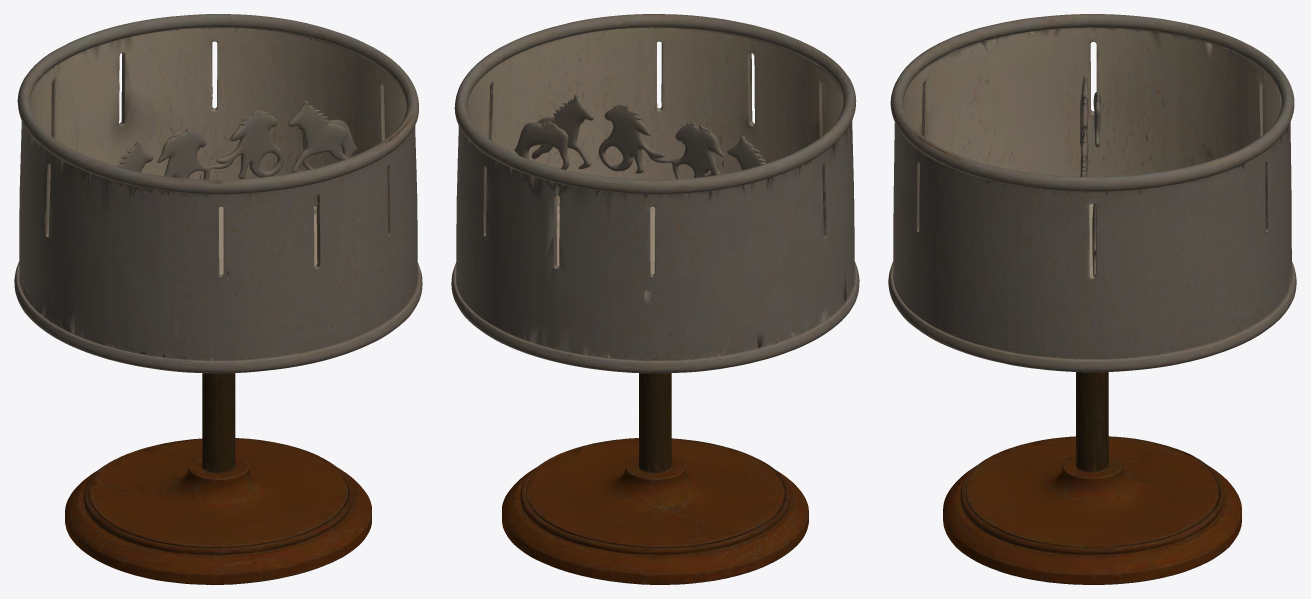
Rendered from zoetrope.glb.
The picture shows the model from 3 angles, left to right: view 1: azimuth 30°, elevation 25°; view 2: azimuth 150°, elevation 25°; view 3: azimuth 270°, elevation 25°; orthographic projection.
Parts seen in each view (by area): view 1: texture_pbr_v128; view 2: texture_pbr_v128; view 3: texture_pbr_v128.
Part boxes in pixels (x1,y1,x2,y2): texture_pbr_v128: [14, 14, 422, 584]; texture_pbr_v128: [451, 14, 859, 584]; texture_pbr_v128: [888, 14, 1296, 584].
Bounding box in the file's own units: 0.7974 × 0.9155 × 0.7976.
Materials: 1 (1 with a texture image).
